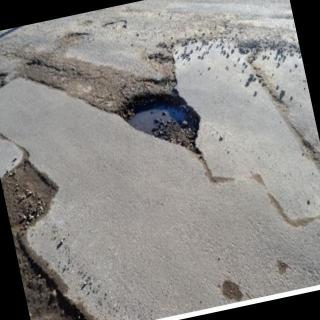pothole: (117, 94, 211, 178)
